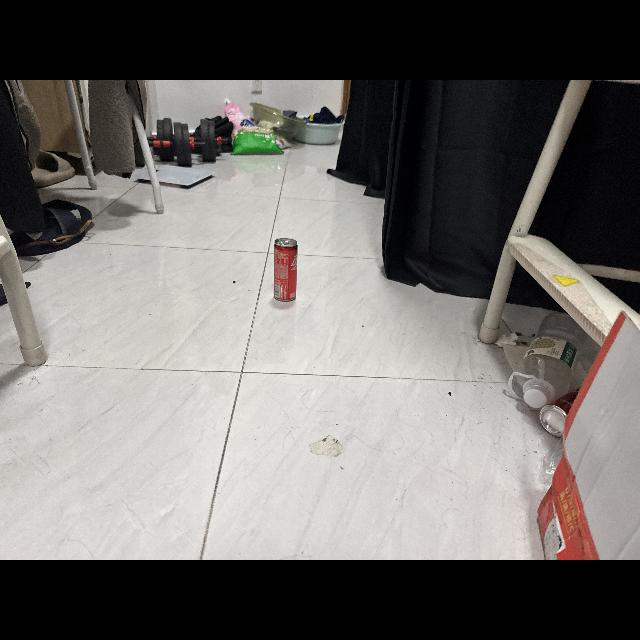Cola: (270, 232, 306, 306)
